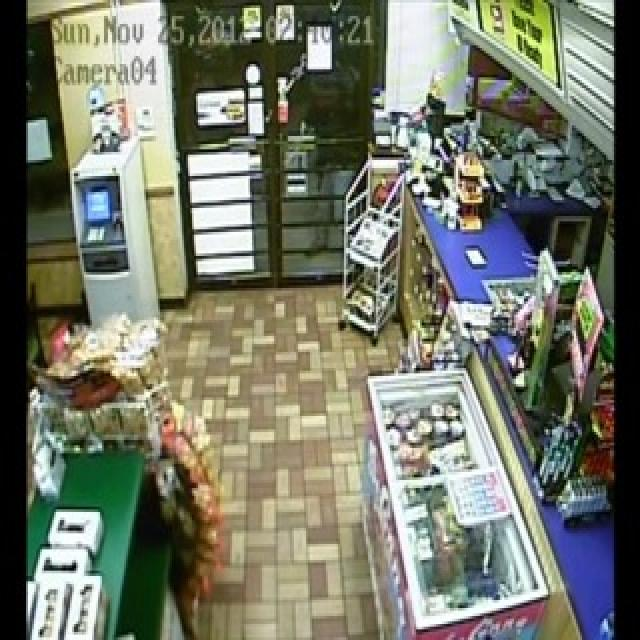burglary: (278, 49, 372, 215)
